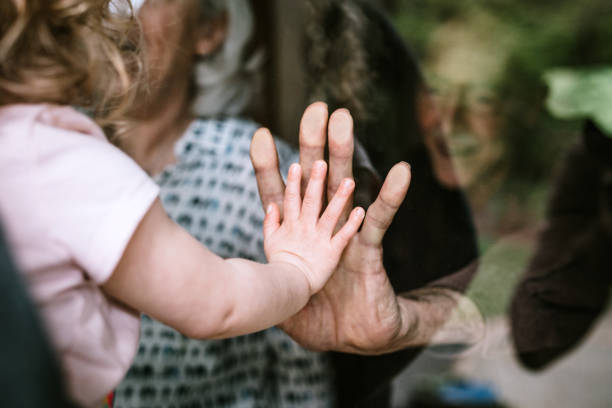without mask: (392, 26, 552, 196)
